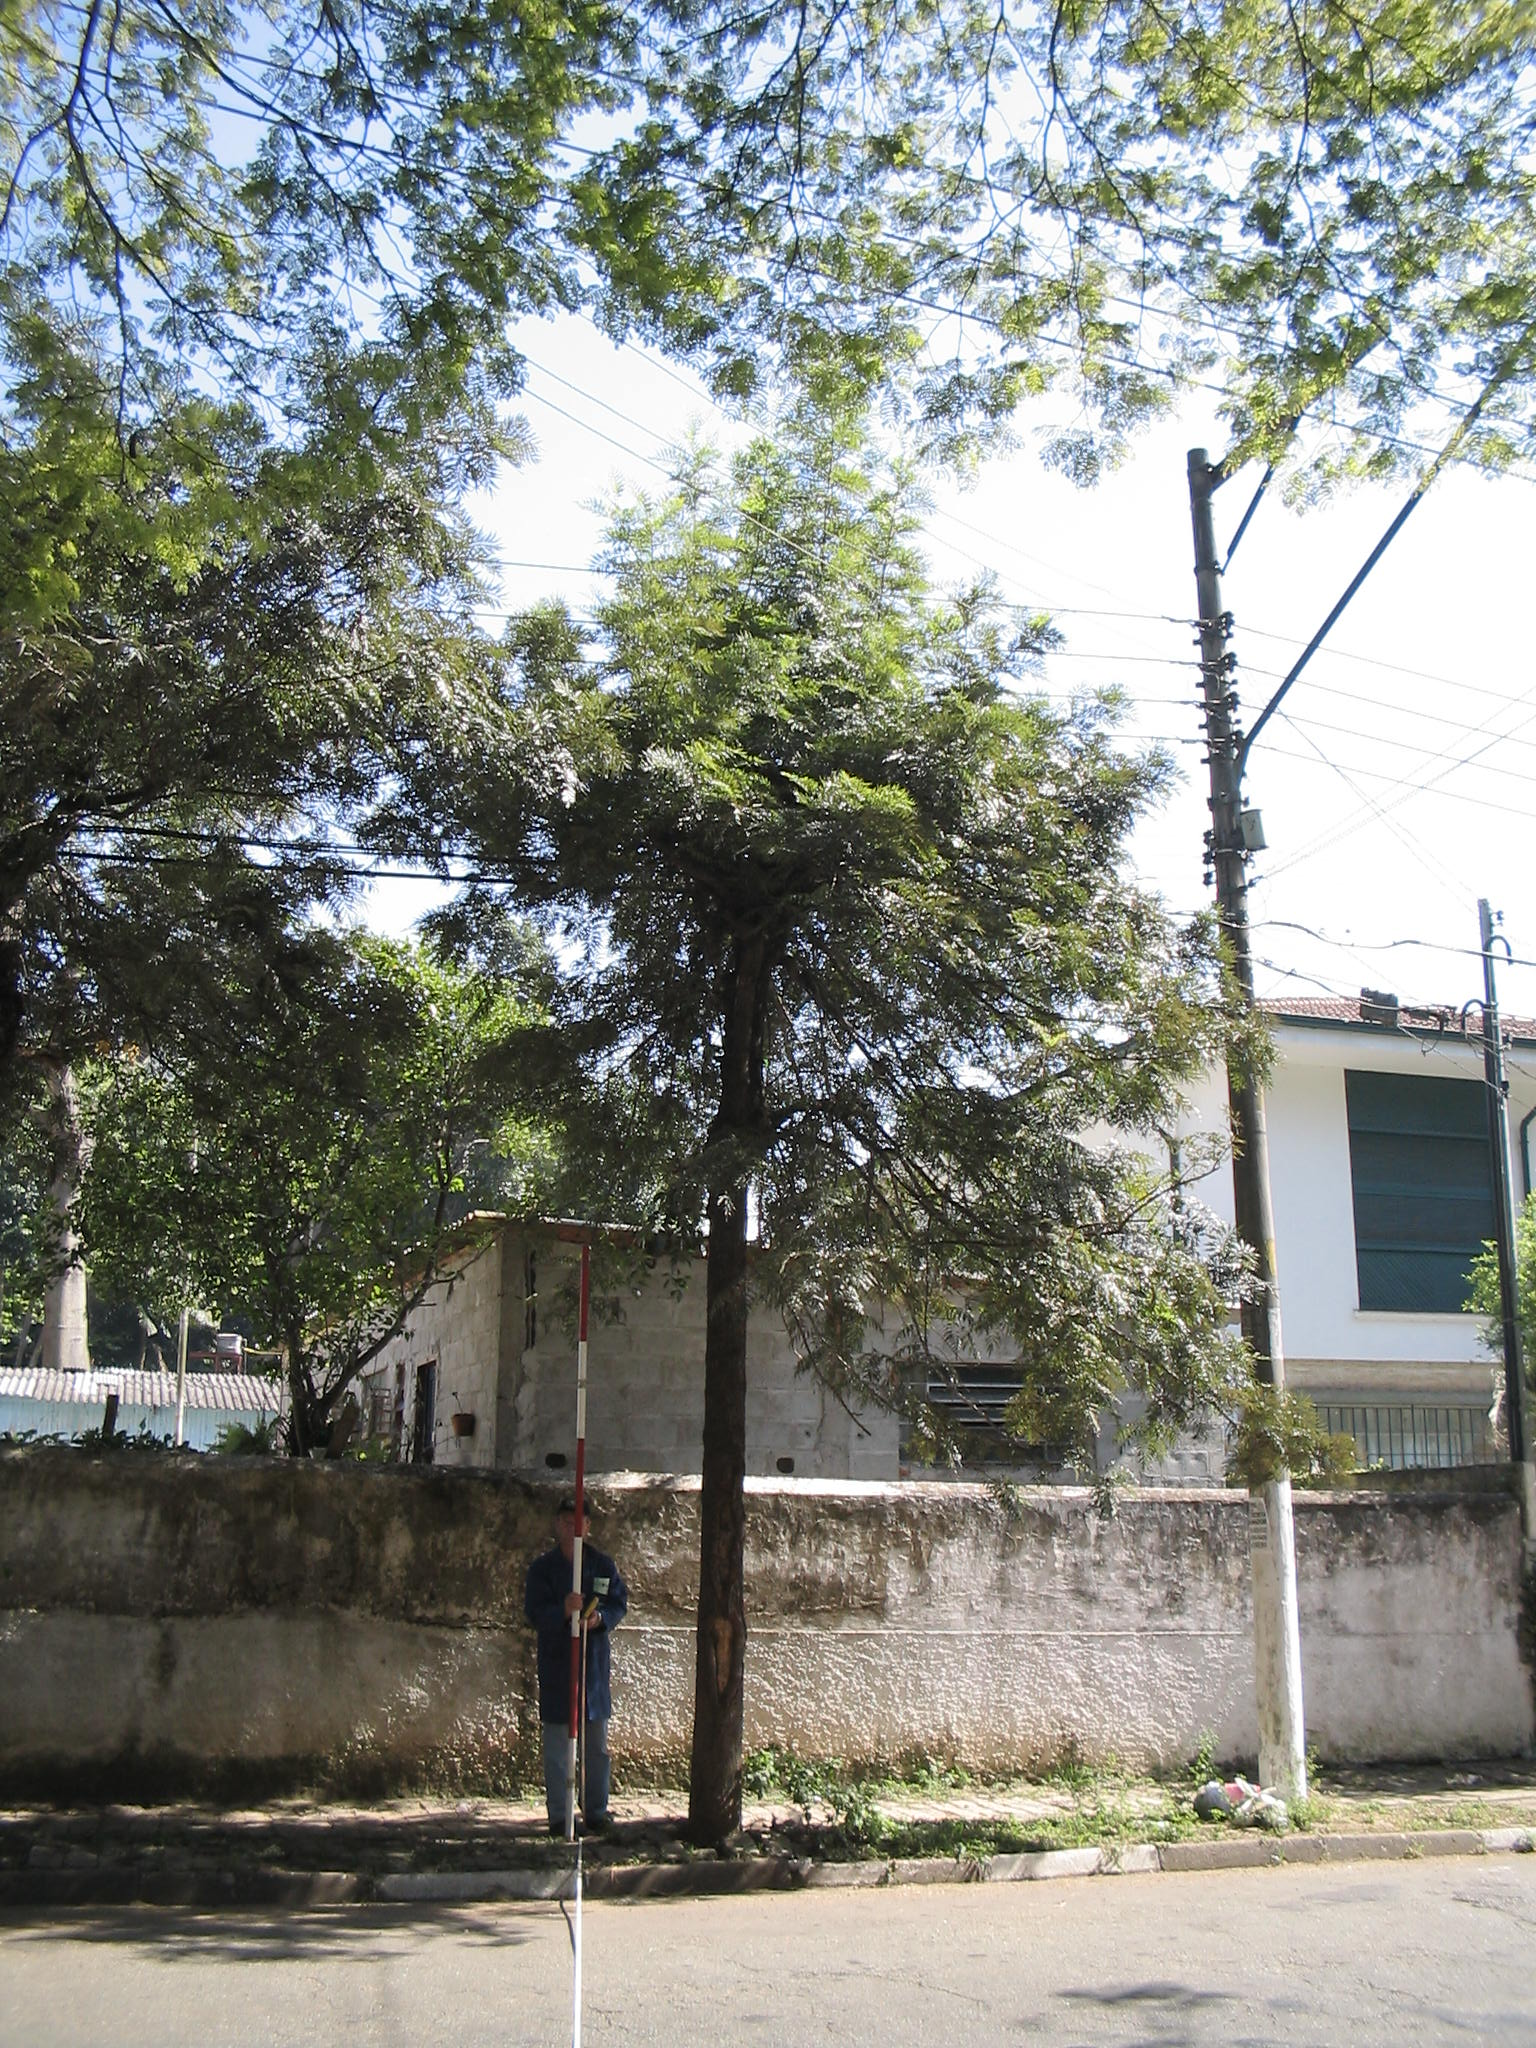crown: (282, 424, 1379, 1550)
stem: (641, 1190, 808, 1853)
stick: (549, 1245, 615, 1840)
tree: (278, 421, 1388, 1861)
